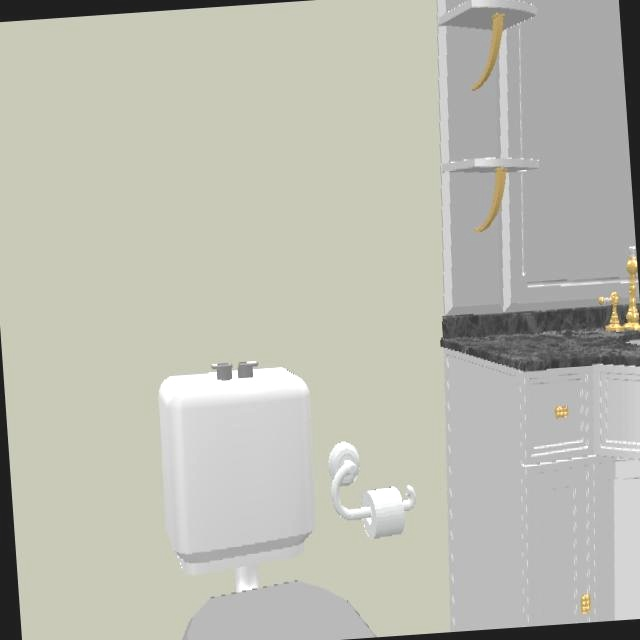cabinet: (443, 349, 640, 631)
toilet: (158, 361, 361, 640)
